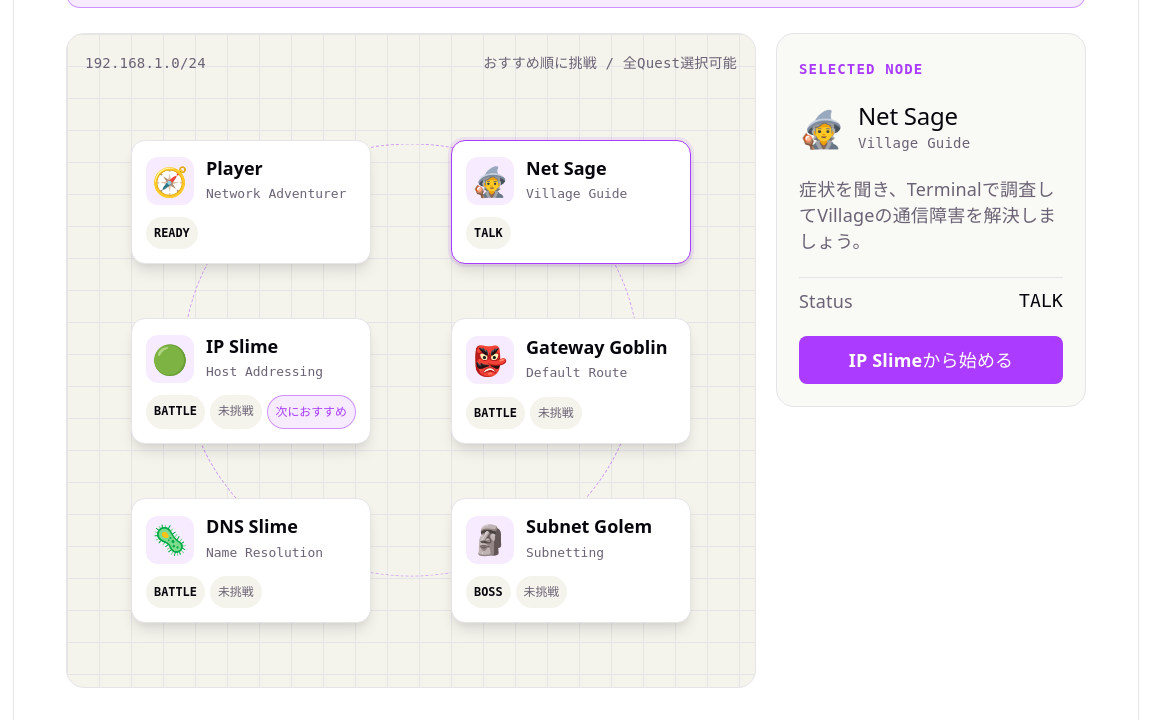
LAN Village › shows the game loop and beginner recommendation metadata
(page scrolled)
Expected: the text "次におすすめ" is shown, [266,395,356,429]
Step 1. Click the button "🟢 IP Slime Host Addressing BATTLE 未挑戦 次におすすめ" → {"x": 251, "y": 381}, box [131,318,371,444]
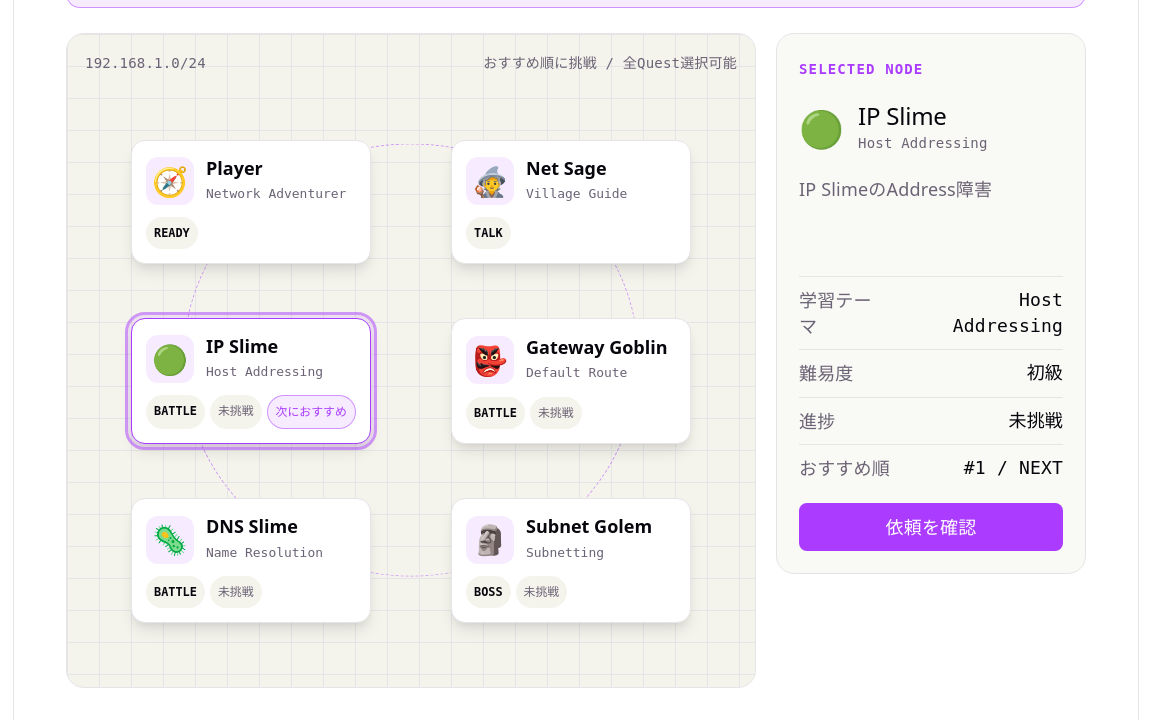
Expected: the text "Host Addressing" next to "学習テーマ" is shown, [953,289,1063,336]
Expected: the text "初級" is shown, [1027,360,1063,387]
